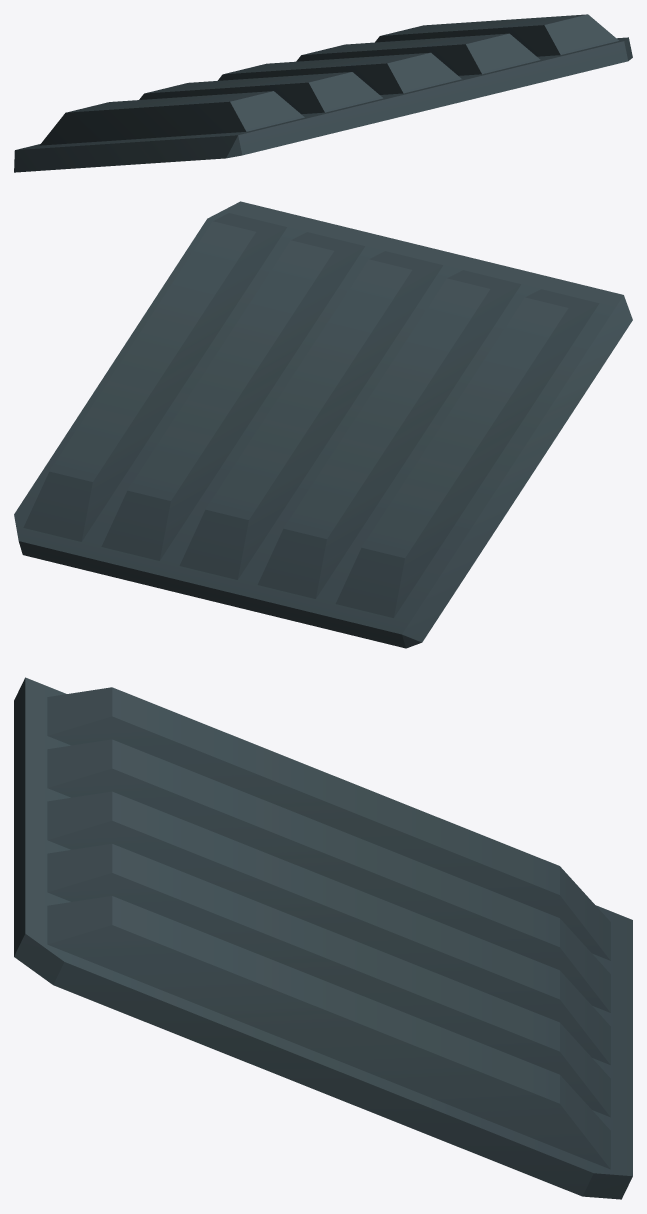
Rendered from Container_Cap4_01.fbx.
3 views of the same model, one above another, from view 1: azimuth 30°, elevation 25°; view 2: azimuth 150°, elevation 25°; view 3: azimuth 270°, elevation 25° (orthographic). The views are drawn at different scales.
Parts seen in each view (by area): view 1: Container_Cap4_01; view 2: Container_Cap4_01; view 3: Container_Cap4_01.
Boxes of the visible parts, x1=… form: Container_Cap4_01: x1=14, y1=14, x2=632, y2=172; Container_Cap4_01: x1=14, y1=201, x2=632, y2=648; Container_Cap4_01: x1=14, y1=677, x2=632, y2=1199.
Bounding box in the file's own units: 61.85 × 58.64 × 28.43.
